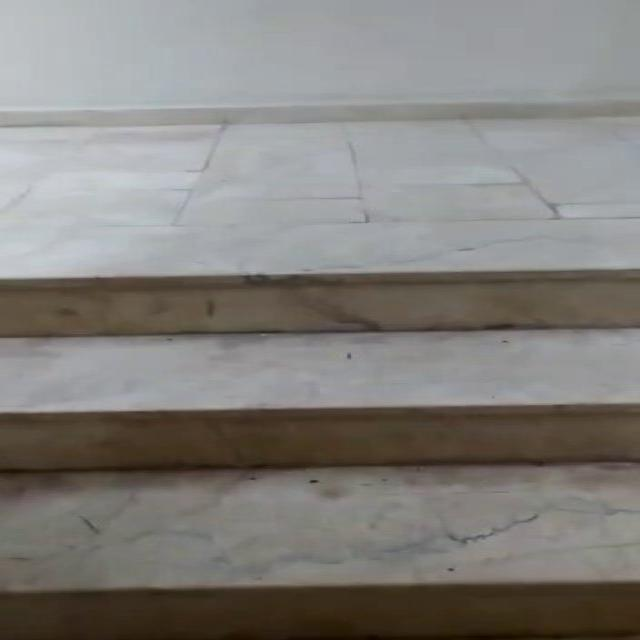stair: (4, 272, 640, 640)
